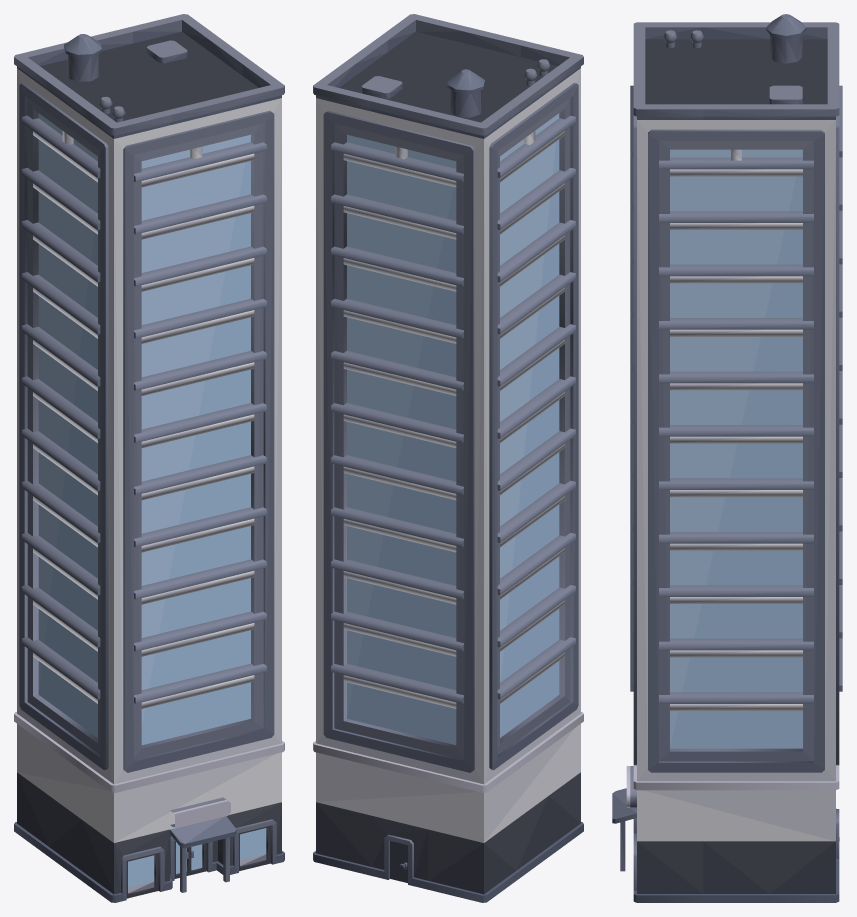
3 views of the same model, side by side, from view 1: azimuth 30°, elevation 25°; view 2: azimuth 150°, elevation 25°; view 3: azimuth 270°, elevation 25° (orthographic). The views are drawn at different scales.
Visible parts, largest first — view 1: building-skyscraper-d; view 2: building-skyscraper-d; view 3: building-skyscraper-d.
Boxes of the visible parts, x1,y1,x2,y2 form: building-skyscraper-d: (14, 14, 284, 902); building-skyscraper-d: (313, 14, 583, 902); building-skyscraper-d: (612, 14, 842, 902).
Size of the model in its own units: 13.1 by 56 by 14.21.
